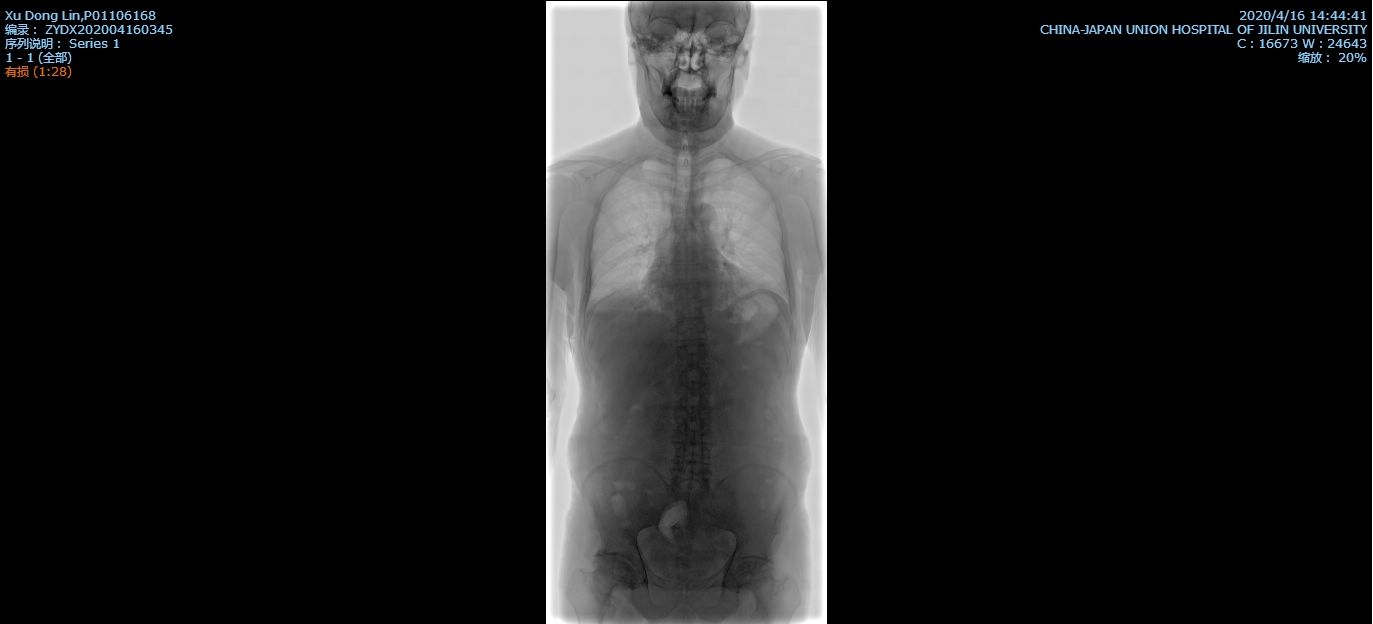Bone: (672, 467, 708, 490), (673, 443, 709, 463), (676, 415, 709, 434), (676, 346, 708, 363), (679, 392, 708, 410), (679, 370, 708, 387), (678, 323, 705, 339), (675, 304, 702, 319), (675, 285, 699, 300), (675, 266, 698, 281)
